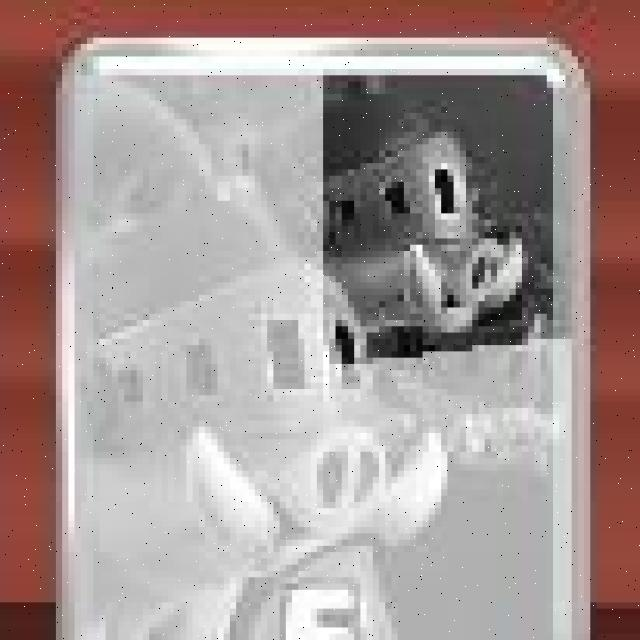Royal_Hogs: (48, 43, 588, 640)
